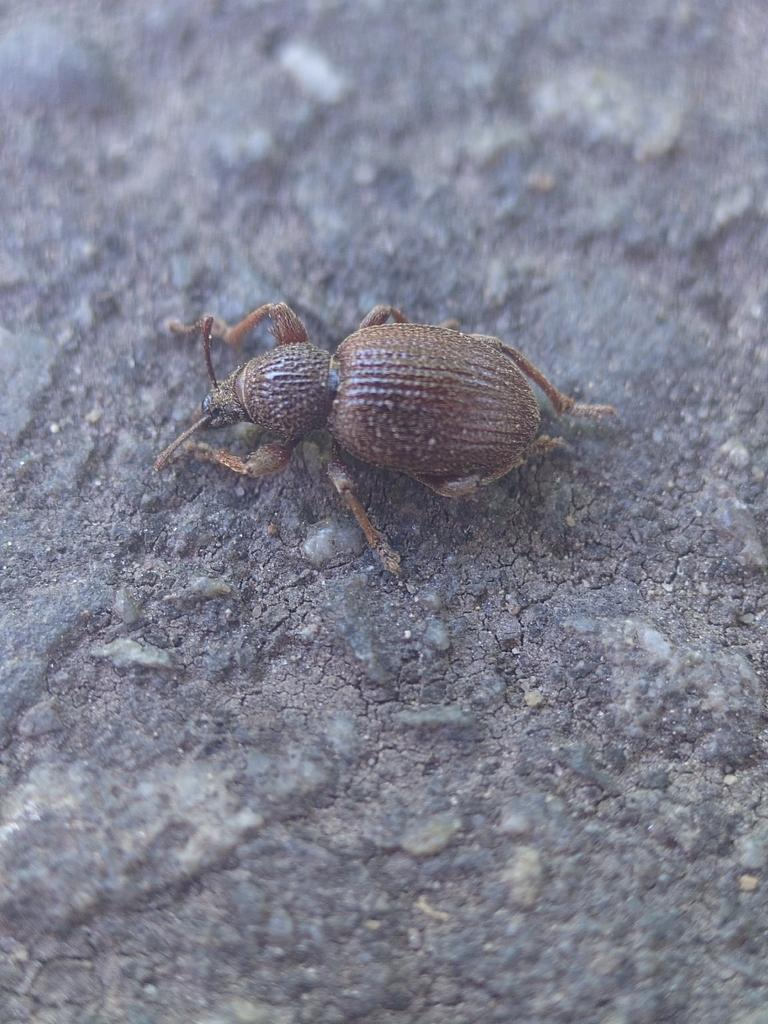weevils: (96, 266, 667, 611)
